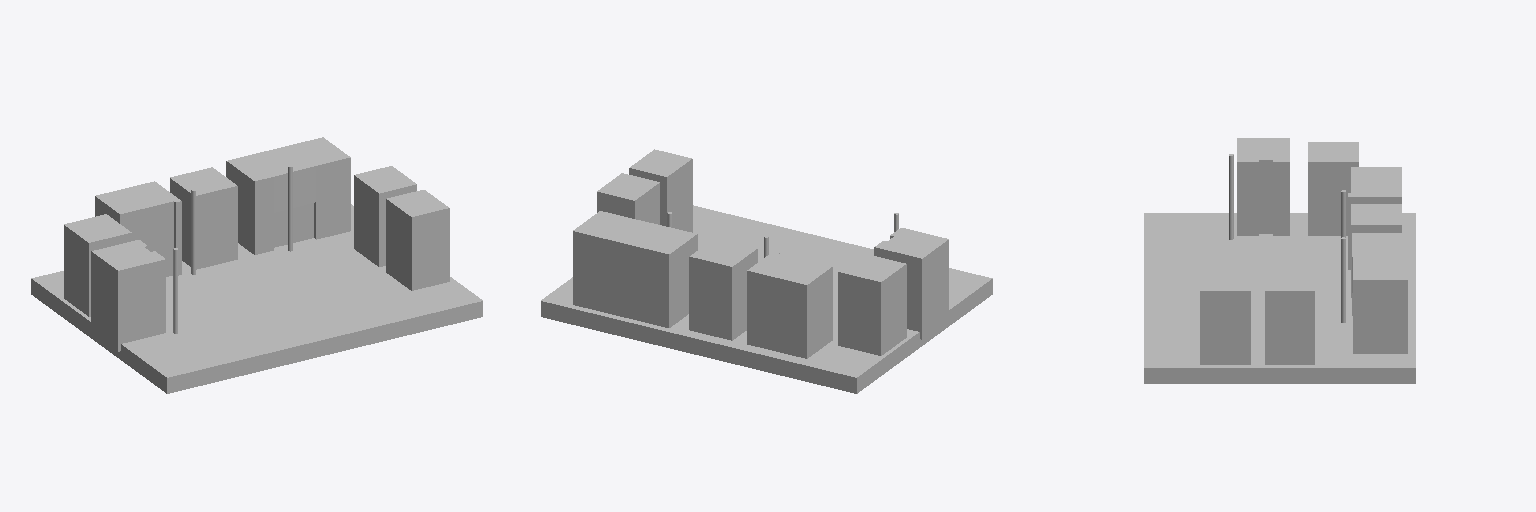
File: Hacker Map.obj
3 renders of one model, left to right at view 1: azimuth 30°, elevation 25°; view 2: azimuth 150°, elevation 25°; view 3: azimuth 270°, elevation 25°, orthographic.
Parts seen in each view (by area): view 1: Floor_Cube, F1_Cube.004, L1_Cube.005, R1_Cube.002, F2_Cube.003, F3_Cube.006, R2_Cube.001, L2_Cube.007; view 2: Floor_Cube, F1_Cube.004, F3_Cube.006, L2_Cube.007, F2_Cube.003, L1_Cube.005, R1_Cube.002, R2_Cube.001; view 3: Floor_Cube, F1_Cube.004, L1_Cube.005, R1_Cube.002, R2_Cube.001, L2_Cube.007, F3_Cube.006, F2_Cube.003.
Boxes of the visible parts, box(x1,y1,x2,y2) form: Floor_Cube: box(31, 204, 482, 393); F1_Cube.004: box(226, 137, 350, 254); L1_Cube.005: box(91, 240, 165, 351); R1_Cube.002: box(386, 190, 449, 290); F2_Cube.003: box(170, 167, 237, 269); F3_Cube.006: box(95, 181, 181, 276); R2_Cube.001: box(354, 166, 416, 266); L2_Cube.007: box(64, 214, 131, 316); Floor_Cube: box(541, 205, 992, 393); F1_Cube.004: box(573, 211, 697, 327); F3_Cube.006: box(747, 251, 832, 358); L2_Cube.007: box(838, 253, 906, 355); F2_Cube.003: box(689, 238, 757, 340); L1_Cube.005: box(874, 228, 948, 339); R1_Cube.002: box(629, 149, 692, 232); R2_Cube.001: box(597, 173, 659, 224); Floor_Cube: box(1144, 213, 1415, 383); F1_Cube.004: box(1352, 233, 1407, 353); L1_Cube.005: box(1237, 138, 1289, 235); R1_Cube.002: box(1200, 272, 1250, 364); R2_Cube.001: box(1265, 272, 1314, 364); L2_Cube.007: box(1308, 142, 1358, 235); F3_Cube.006: box(1348, 167, 1401, 269); F2_Cube.003: box(1351, 204, 1401, 297).
Size of the model in its own units: 41.38 by 12.42 by 30.54.